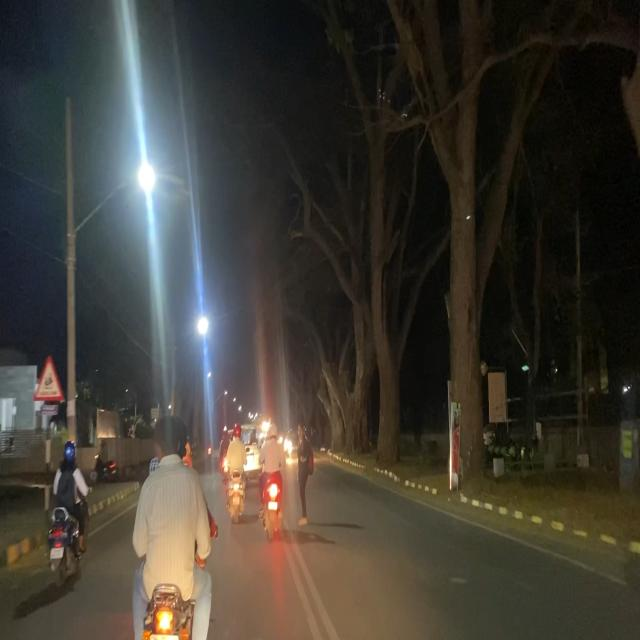bien_cam: (30, 346, 64, 404)
